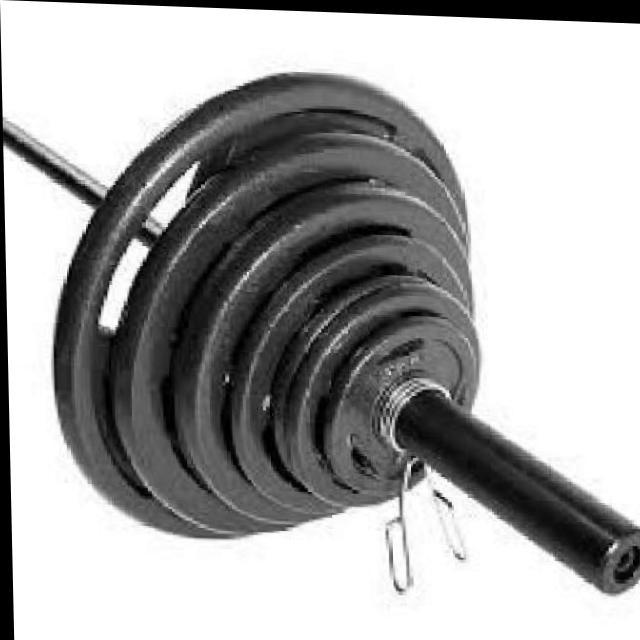barbell: (42, 53, 640, 606)
